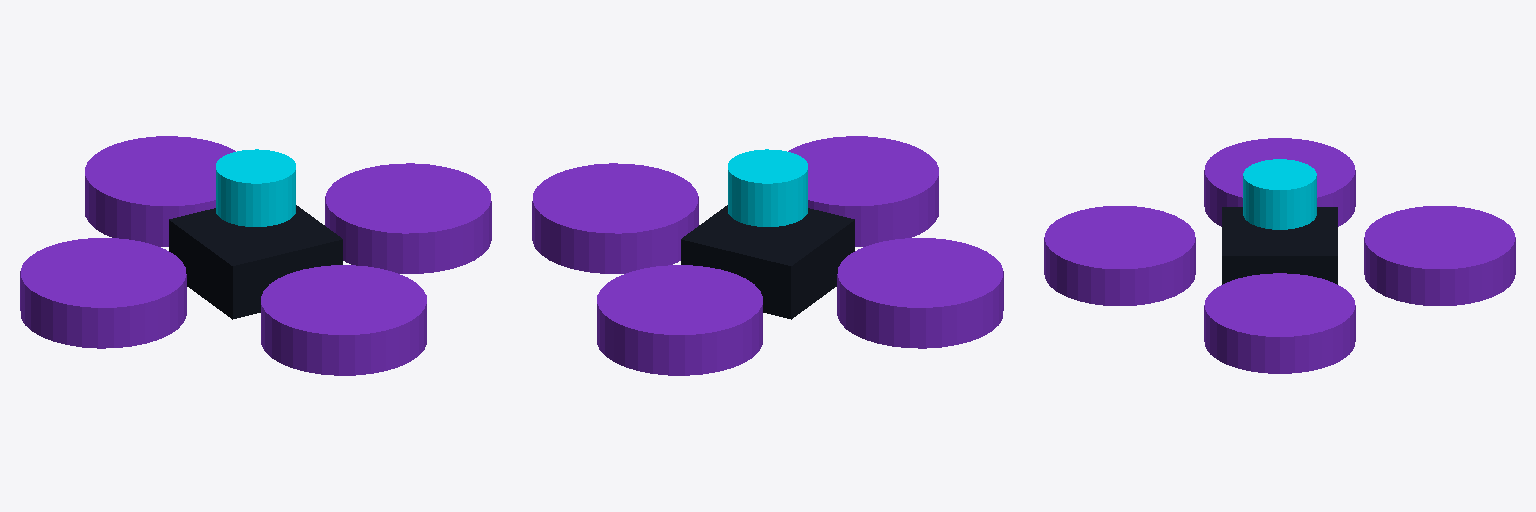
URDF robot description (evolved_sentinel_prime_v4):
<?xml version="1.0" ?>
<!-- =================================================================================== -->
<!-- Generation 4: Sentinel Prime AI Autonomous Racer (evolved_sentinel_prime_v4)       -->
<!-- Autonomous Flight Trial Closed-Loop Evolution: Reduced arm 0.165m, 2.5mm Bumper    -->
<!-- =================================================================================== -->
<robot name="evolved_sentinel_prime_v4">
  <!-- Base Central Avionics & Battery Hub -->
  <link name="base_link">
    <inertial>
      <mass value="0.4264"/>
      <origin xyz="0 0 0" rpy="0 0 0"/>
      <inertia ixx="0.004591" ixy="0.0" ixz="0.0" iyy="0.004591" iyz="0.0" izz="0.006660"/>
    </inertial>
    <visual>
      <origin xyz="0 0 0" rpy="0 0 0"/>
      <geometry>
        <box size="0.12 0.12 0.055"/>
      </geometry>
      <material name="carbon_dark">
        <color rgba="0.10 0.12 0.16 1.0"/>
      </material>
    </visual>
    <collision>
      <origin xyz="0 0 0" rpy="0 0 0"/>
      <geometry>
        <box size="0.12 0.12 0.055"/>
      </geometry>
    </collision>
  </link>

  <!-- 360 LiDAR Turret Sensor -->
  <link name="lidar_turret">
    <inertial>
      <mass value="0.045"/>
      <origin xyz="0 0 0" rpy="0 0 0"/>
      <inertia ixx="0.00001" ixy="0" ixz="0" iyy="0.00001" iyz="0" izz="0.00002"/>
    </inertial>
    <visual>
      <origin xyz="0 0 0.04" rpy="0 0 0"/>
      <geometry>
        <cylinder radius="0.038" length="0.045"/>
      </geometry>
      <material name="cyan_glow">
        <color rgba="0.0 0.9 1.0 1.0"/>
      </material>
    </visual>
  </link>
  <joint name="joint_lidar_turret" type="fixed">
    <parent link="base_link"/>
    <child link="lidar_turret"/>
    <origin xyz="0 0 0.03" rpy="0 0 0"/>
  </joint>

  <!-- Arm & Duct Bumper Unit 1 -->
  <link name="arm_1">
    <inertial>
      <mass value="0.0984"/>
      <origin xyz="0 0 0" rpy="0 0 0"/>
      <inertia ixx="0.00012" ixy="0.0" ixz="0.0" iyy="0.00012" iyz="0.0" izz="0.00024"/>
    </inertial>
    <visual>
      <origin xyz="0 0 0" rpy="0 0 0"/>
      <geometry>
        <cylinder radius="0.0780" length="0.0420"/>
      </geometry>
      <material name="polycarbonate_purple">
        <color rgba="0.55 0.25 0.85 0.80"/>
      </material>
    </visual>
    <collision>
      <origin xyz="0 0 0" rpy="0 0 0"/>
      <geometry>
        <cylinder radius="0.0780" length="0.0420"/>
      </geometry>
    </collision>
  </link>
  <joint name="joint_arm_1" type="fixed">
    <parent link="base_link"/>
    <child link="arm_1"/>
    <origin xyz="0.1650 0.0000 0.0" rpy="0 0 0"/>
  </joint>

  <!-- Arm & Duct Bumper Unit 2 -->
  <link name="arm_2">
    <inertial>
      <mass value="0.0984"/>
      <origin xyz="0 0 0" rpy="0 0 0"/>
      <inertia ixx="0.00012" ixy="0.0" ixz="0.0" iyy="0.00012" iyz="0.0" izz="0.00024"/>
    </inertial>
    <visual>
      <origin xyz="0 0 0" rpy="0 0 0"/>
      <geometry>
        <cylinder radius="0.0780" length="0.0420"/>
      </geometry>
      <material name="polycarbonate_purple">
        <color rgba="0.55 0.25 0.85 0.80"/>
      </material>
    </visual>
    <collision>
      <origin xyz="0 0 0" rpy="0 0 0"/>
      <geometry>
        <cylinder radius="0.0780" length="0.0420"/>
      </geometry>
    </collision>
  </link>
  <joint name="joint_arm_2" type="fixed">
    <parent link="base_link"/>
    <child link="arm_2"/>
    <origin xyz="0.0000 0.1650 0.0" rpy="0 0 0"/>
  </joint>

  <!-- Arm & Duct Bumper Unit 3 -->
  <link name="arm_3">
    <inertial>
      <mass value="0.0984"/>
      <origin xyz="0 0 0" rpy="0 0 0"/>
      <inertia ixx="0.00012" ixy="0.0" ixz="0.0" iyy="0.00012" iyz="0.0" izz="0.00024"/>
    </inertial>
    <visual>
      <origin xyz="0 0 0" rpy="0 0 0"/>
      <geometry>
        <cylinder radius="0.0780" length="0.0420"/>
      </geometry>
      <material name="polycarbonate_purple">
        <color rgba="0.55 0.25 0.85 0.80"/>
      </material>
    </visual>
    <collision>
      <origin xyz="0 0 0" rpy="0 0 0"/>
      <geometry>
        <cylinder radius="0.0780" length="0.0420"/>
      </geometry>
    </collision>
  </link>
  <joint name="joint_arm_3" type="fixed">
    <parent link="base_link"/>
    <child link="arm_3"/>
    <origin xyz="-0.1650 0.0000 0.0" rpy="0 0 0"/>
  </joint>

  <!-- Arm & Duct Bumper Unit 4 -->
  <link name="arm_4">
    <inertial>
      <mass value="0.0984"/>
      <origin xyz="0 0 0" rpy="0 0 0"/>
      <inertia ixx="0.00012" ixy="0.0" ixz="0.0" iyy="0.00012" iyz="0.0" izz="0.00024"/>
    </inertial>
    <visual>
      <origin xyz="0 0 0" rpy="0 0 0"/>
      <geometry>
        <cylinder radius="0.0780" length="0.0420"/>
      </geometry>
      <material name="polycarbonate_purple">
        <color rgba="0.55 0.25 0.85 0.80"/>
      </material>
    </visual>
    <collision>
      <origin xyz="0 0 0" rpy="0 0 0"/>
      <geometry>
        <cylinder radius="0.0780" length="0.0420"/>
      </geometry>
    </collision>
  </link>
  <joint name="joint_arm_4" type="fixed">
    <parent link="base_link"/>
    <child link="arm_4"/>
    <origin xyz="-0.0000 -0.1650 0.0" rpy="0 0 0"/>
  </joint>
</robot>

--- Render facts (derived) ---
Views: 3 orthographic renders of the robot side by side, from view 1: azimuth 30°, elevation 25°; view 2: azimuth 150°, elevation 25°; view 3: azimuth 270°, elevation 25°.
Robot: evolved_sentinel_prime_v4 — 6 links, 5 joints (5 fixed); root link base_link; default pose: all joints at 0.
Links seen in each view (by area): view 1: arm_3, arm_4, arm_1, arm_2, base_link, lidar_turret; view 2: arm_3, arm_2, arm_1, arm_4, base_link, lidar_turret; view 3: arm_1, arm_2, arm_4, base_link, arm_3, lidar_turret.
Boxes of the visible links, box(x1,y1,x2,y2) form: arm_3: box(20, 238, 186, 348); arm_4: box(261, 265, 426, 375); arm_1: box(325, 163, 491, 273); arm_2: box(85, 136, 235, 246); base_link: box(169, 205, 342, 319); lidar_turret: box(216, 149, 295, 226); arm_3: box(837, 238, 1003, 348); arm_2: box(597, 265, 762, 375); arm_1: box(532, 163, 698, 273); arm_4: box(788, 136, 938, 246); base_link: box(681, 205, 854, 319); lidar_turret: box(728, 149, 807, 226); arm_1: box(1204, 273, 1355, 373); arm_2: box(1364, 206, 1515, 305); arm_4: box(1044, 206, 1195, 305); base_link: box(1222, 207, 1337, 284); arm_3: box(1204, 138, 1355, 226); lidar_turret: box(1243, 159, 1316, 229).
Size in the robot's own frame: 0.486 by 0.486 by 0.12 metres.
Geometry: primitives only (box / cylinder / sphere), no mesh files.
